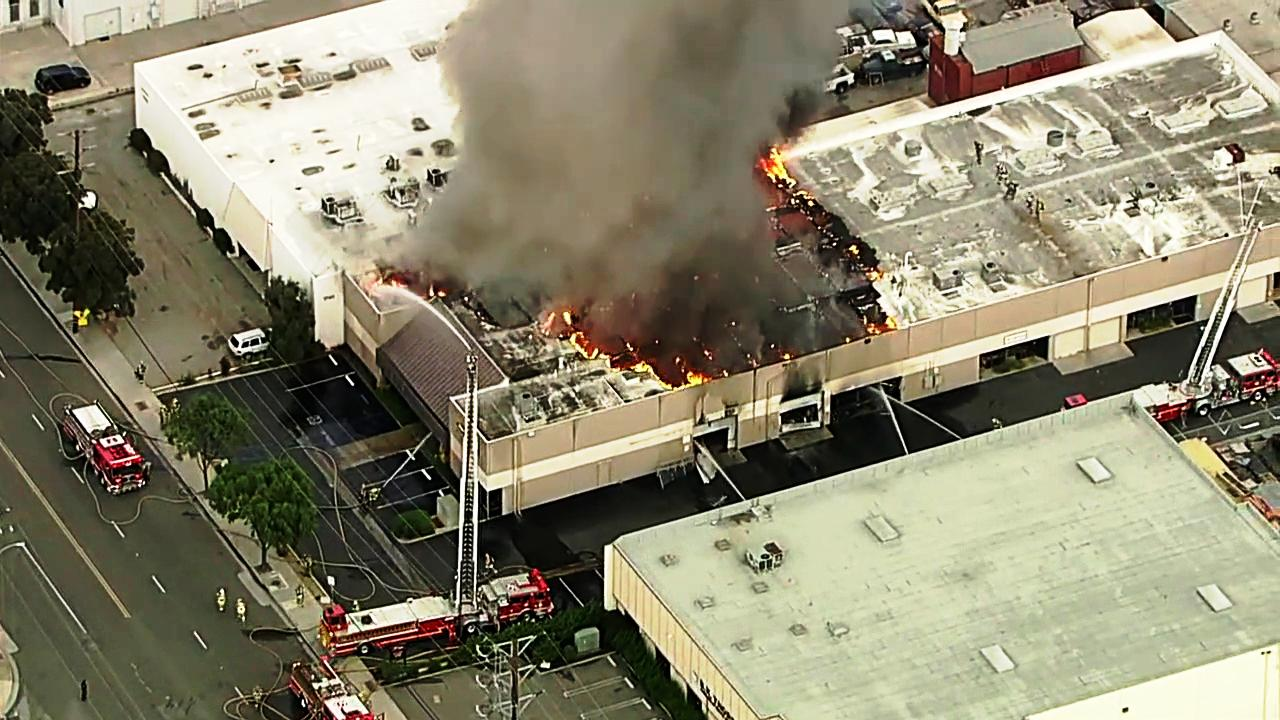smoke: (531, 0, 737, 268)
